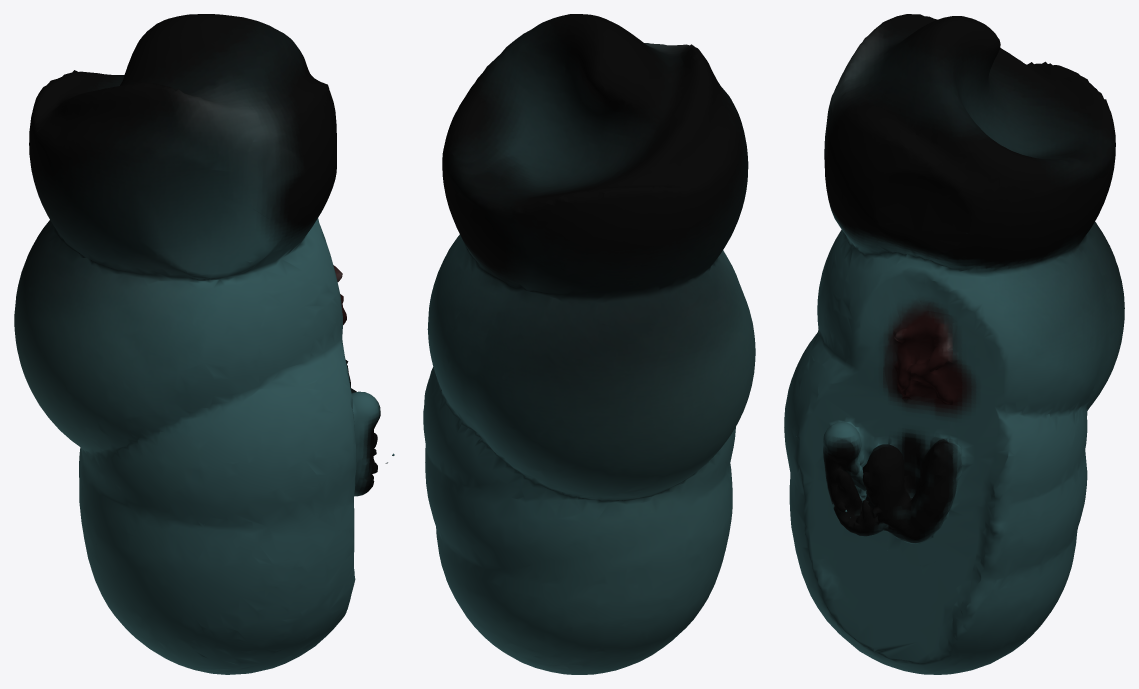
The model's file is water  fillter.fbx.
3 renders of one model, left to right at view 1: azimuth 30°, elevation 25°; view 2: azimuth 150°, elevation 25°; view 3: azimuth 270°, elevation 25°, orthographic. The views are drawn at different scales.
Parts seen in each view (by area): view 1: Layer_1; view 2: Layer_1; view 3: Layer_1.
Boxes of the visible parts, x1,y1,x2,y2 form: Layer_1: (14, 14, 394, 674); Layer_1: (423, 14, 755, 674); Layer_1: (784, 14, 1124, 674).
Size of the model in its own units: 0.4375 by 0.448 by 0.9151.
